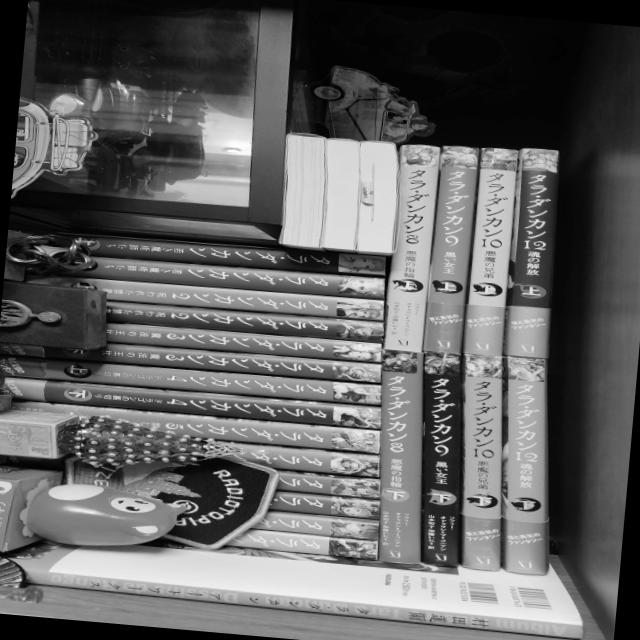book: (1, 523, 586, 639), (11, 397, 379, 453), (0, 375, 380, 429), (0, 354, 380, 406), (49, 274, 384, 321), (44, 338, 382, 383), (65, 253, 384, 300), (61, 232, 385, 277), (501, 147, 565, 359), (459, 146, 519, 357), (421, 143, 480, 354), (380, 142, 439, 351), (105, 300, 385, 344), (105, 321, 381, 363), (497, 355, 549, 575), (456, 354, 505, 571), (375, 350, 423, 564), (418, 352, 462, 566), (219, 441, 379, 477), (251, 509, 379, 540), (267, 490, 378, 519), (274, 469, 380, 498), (225, 526, 328, 555)
